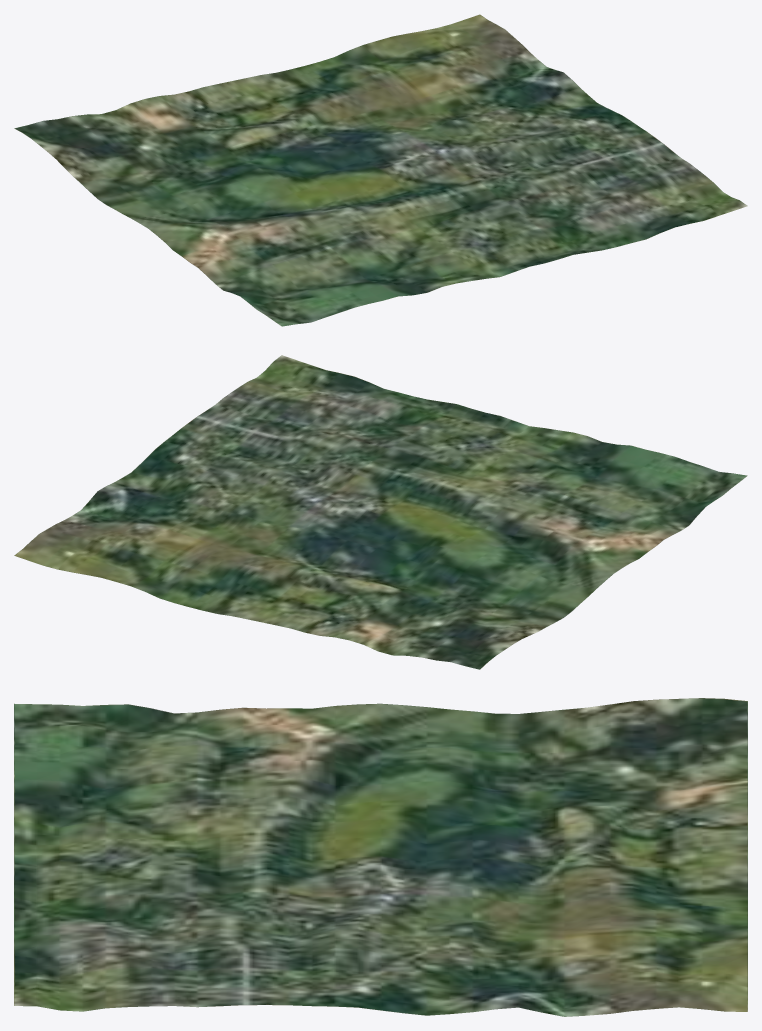
The picture shows the model from 3 angles, top to bottom: view 1: azimuth 30°, elevation 25°; view 2: azimuth 150°, elevation 25°; view 3: azimuth 270°, elevation 25°; orthographic projection. The views are drawn at different scales.
Bounding box in the file's own units: 1950 × 61.54 × 1942.
1 material, 1 textured.
